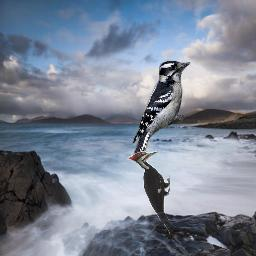Woodpecker: (132, 59, 191, 159), (127, 151, 170, 235)
